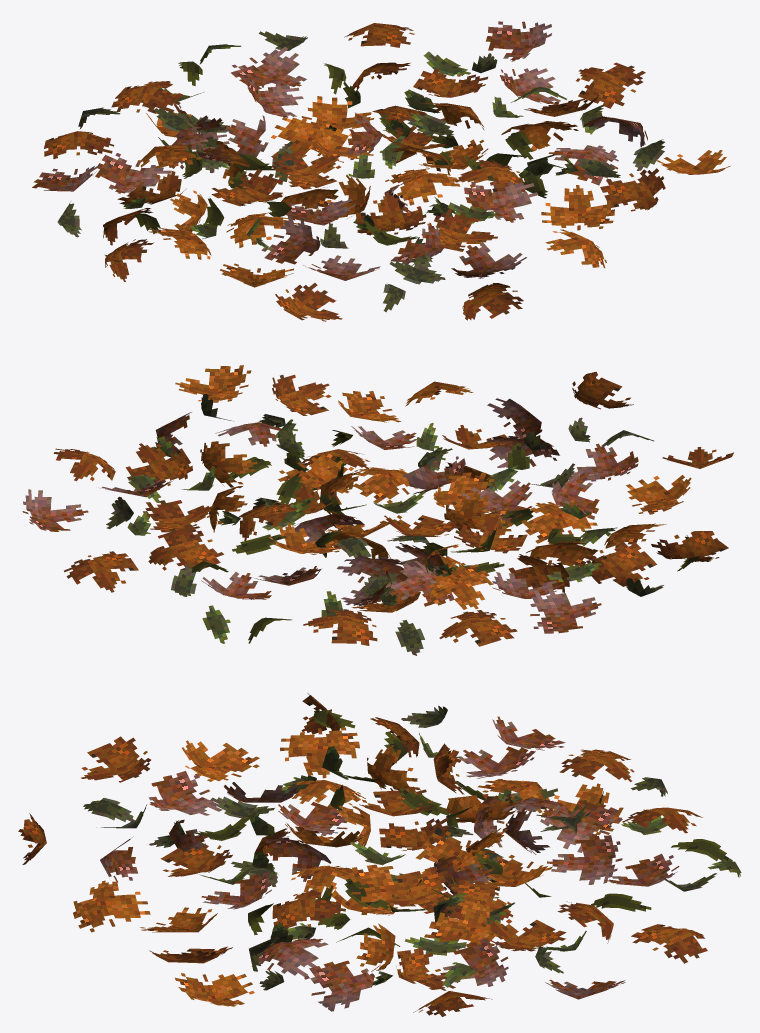
File: GroundLeaves3.fbx
3 renders of one model, top to bottom at view 1: azimuth 30°, elevation 25°; view 2: azimuth 150°, elevation 25°; view 3: azimuth 270°, elevation 25°, orthographic. The views are drawn at different scales.
Visible parts, largest first — view 1: GroundLeaves3; view 2: GroundLeaves3; view 3: GroundLeaves3.
Boxes of the visible parts, left/top/right/bottom form: GroundLeaves3: left=32, top=21, right=730, bottom=321; GroundLeaves3: left=22, top=365, right=733, bottom=655; GroundLeaves3: left=18, top=693, right=741, bottom=1016.
Size of the model in its own units: 1.28 by 1.23 by 0.0958.
